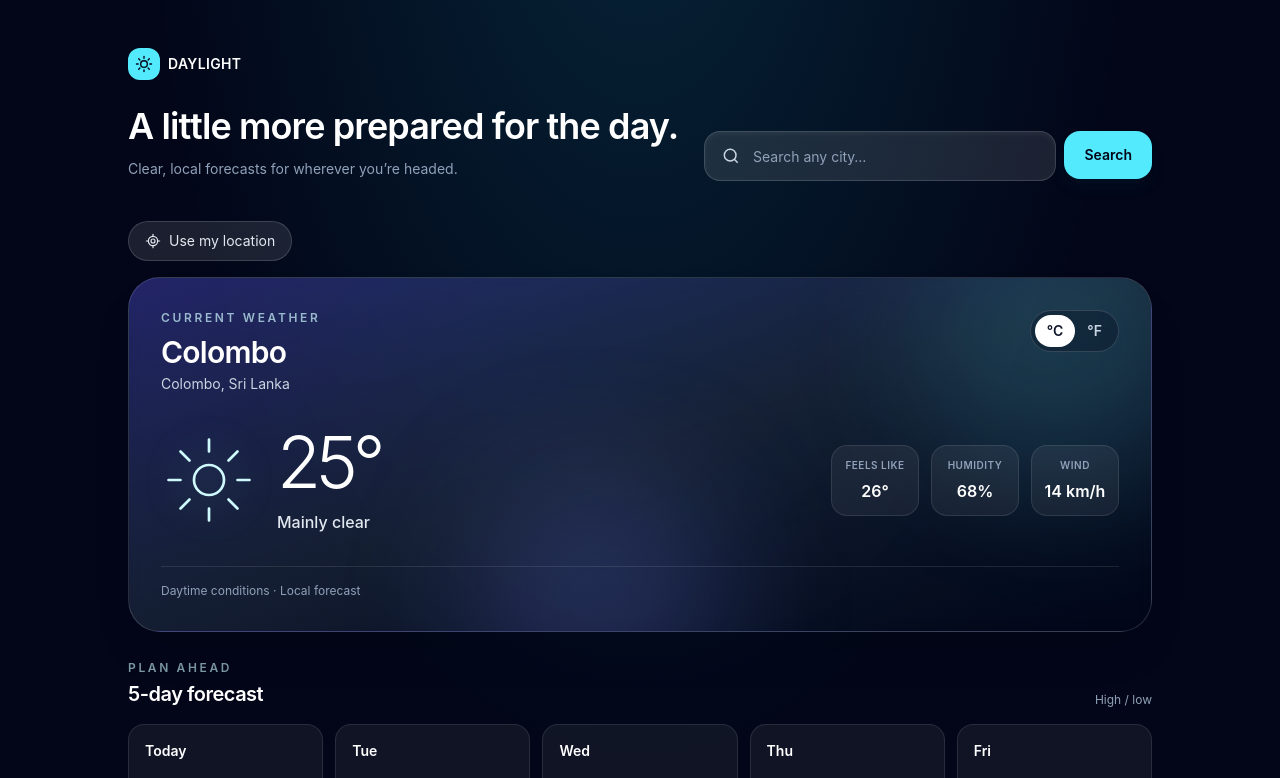
recent searches › remembers searched cities and lets the user search them again
Expected: the heading "Colombo" is shown, [161,334,286,370]
In the search field named "Search for a city": (896, 156) [753,132,1040,180], type "Tokyo"
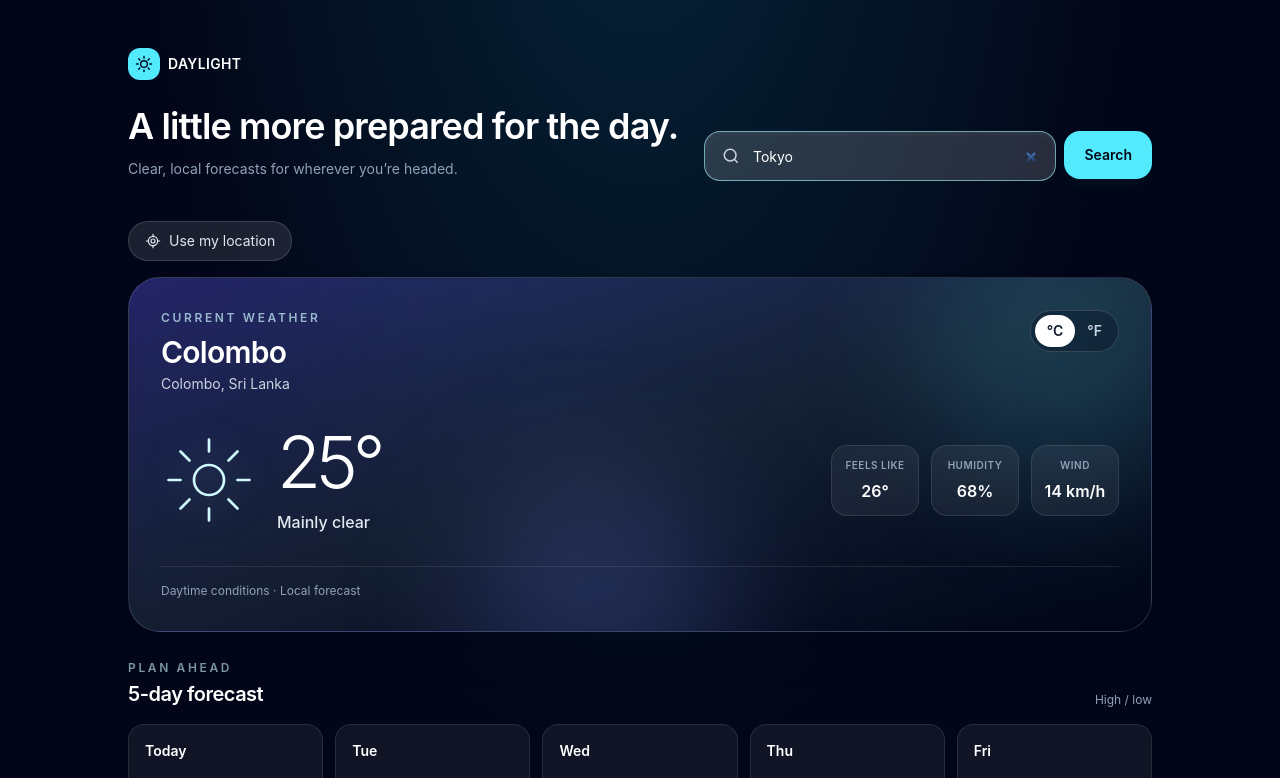
Click the button "Search": (1108, 155) [1064,131,1152,179]
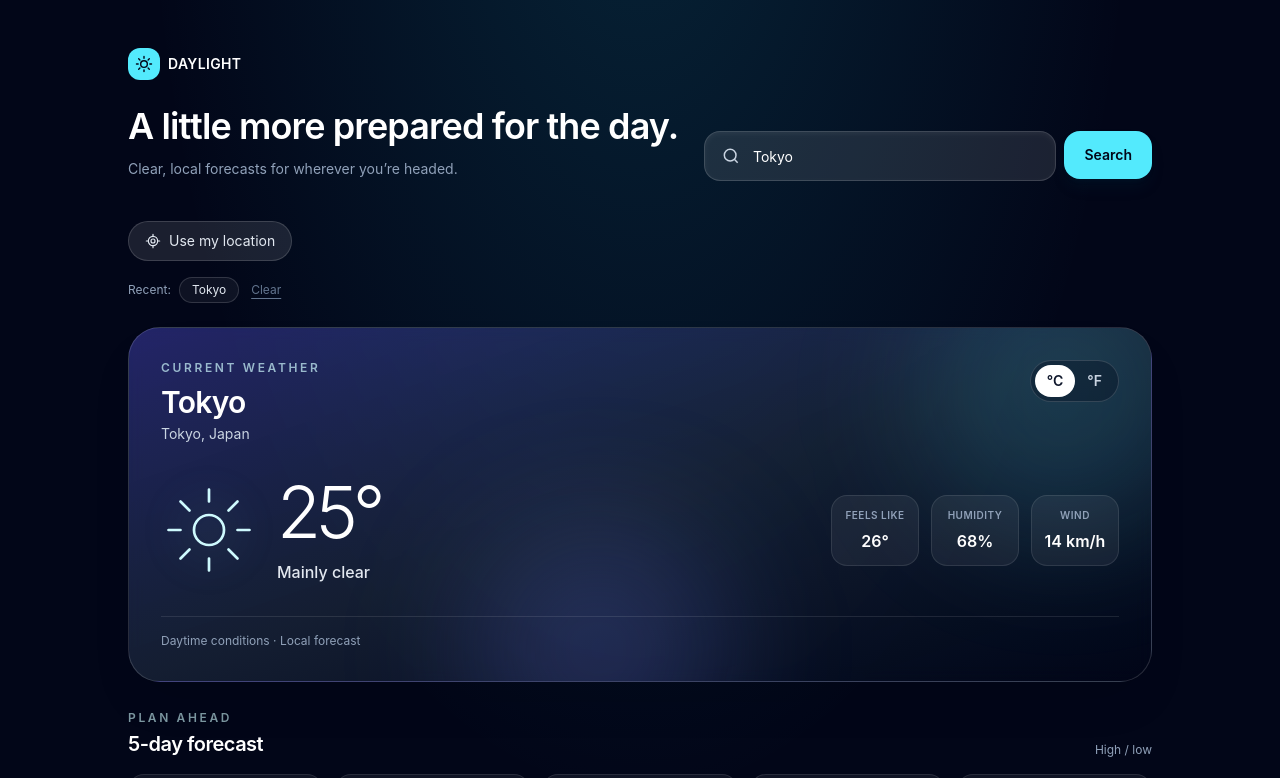
Now the heading "Tokyo" is shown, box [161,384,246,420]
Replace the text in the search field named "Search for a city" with "Paris": (896, 156) [753,132,1040,180]
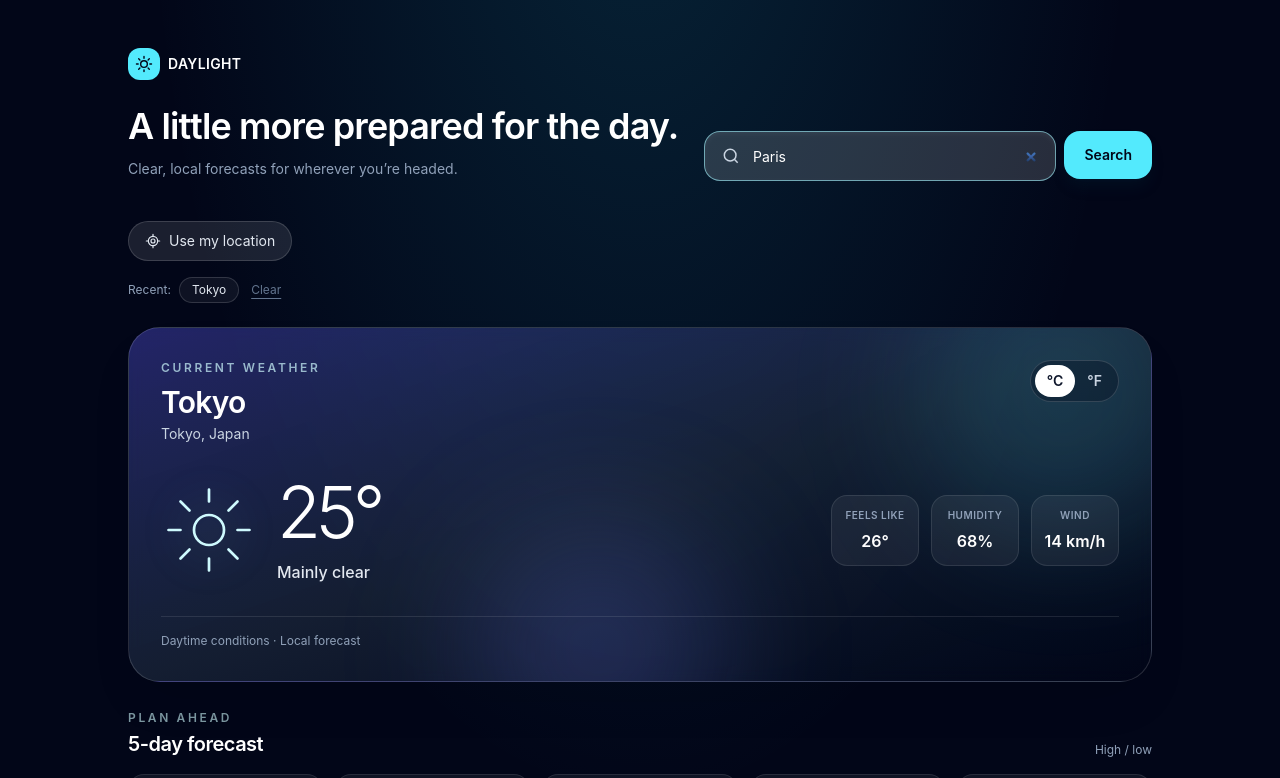
Click the button "Search": (1108, 155) [1064,131,1152,179]
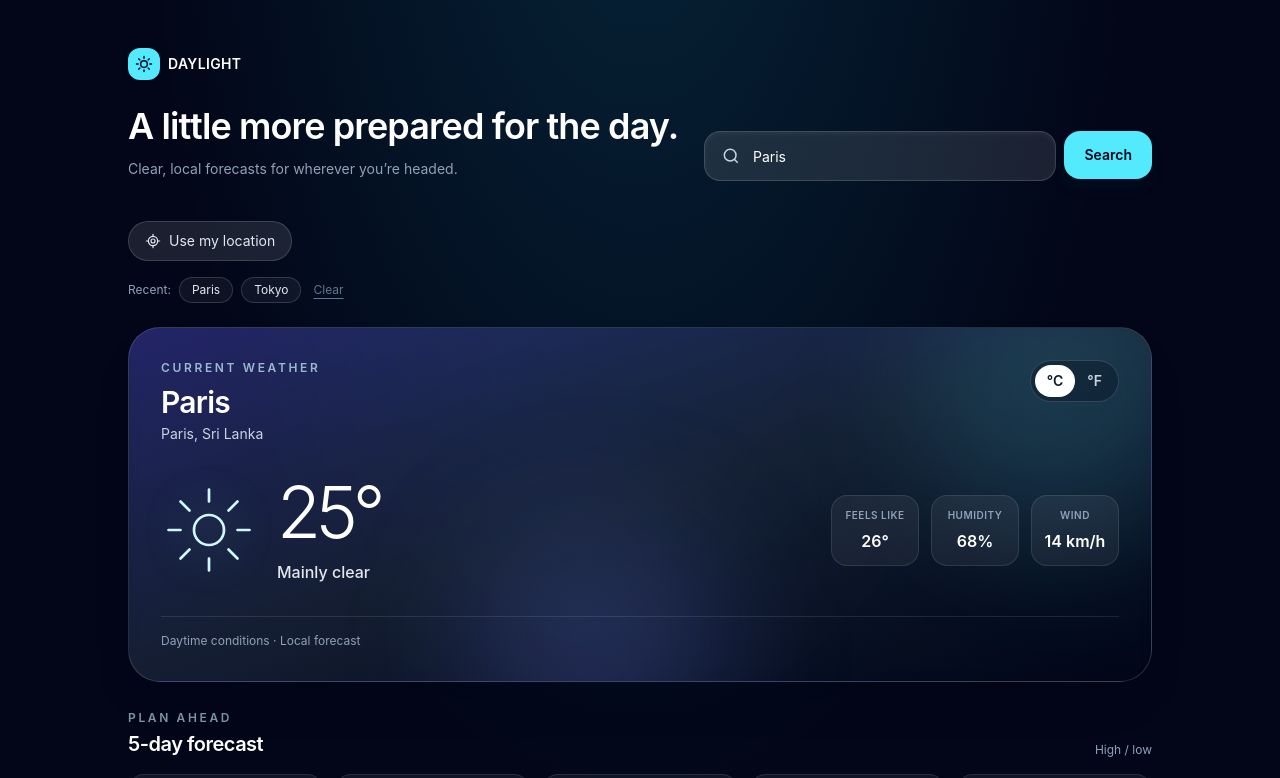
Now the heading "Paris" is shown, box [161,384,230,420]
Click the button "Tokyo": (271, 290) [241,277,302,303]
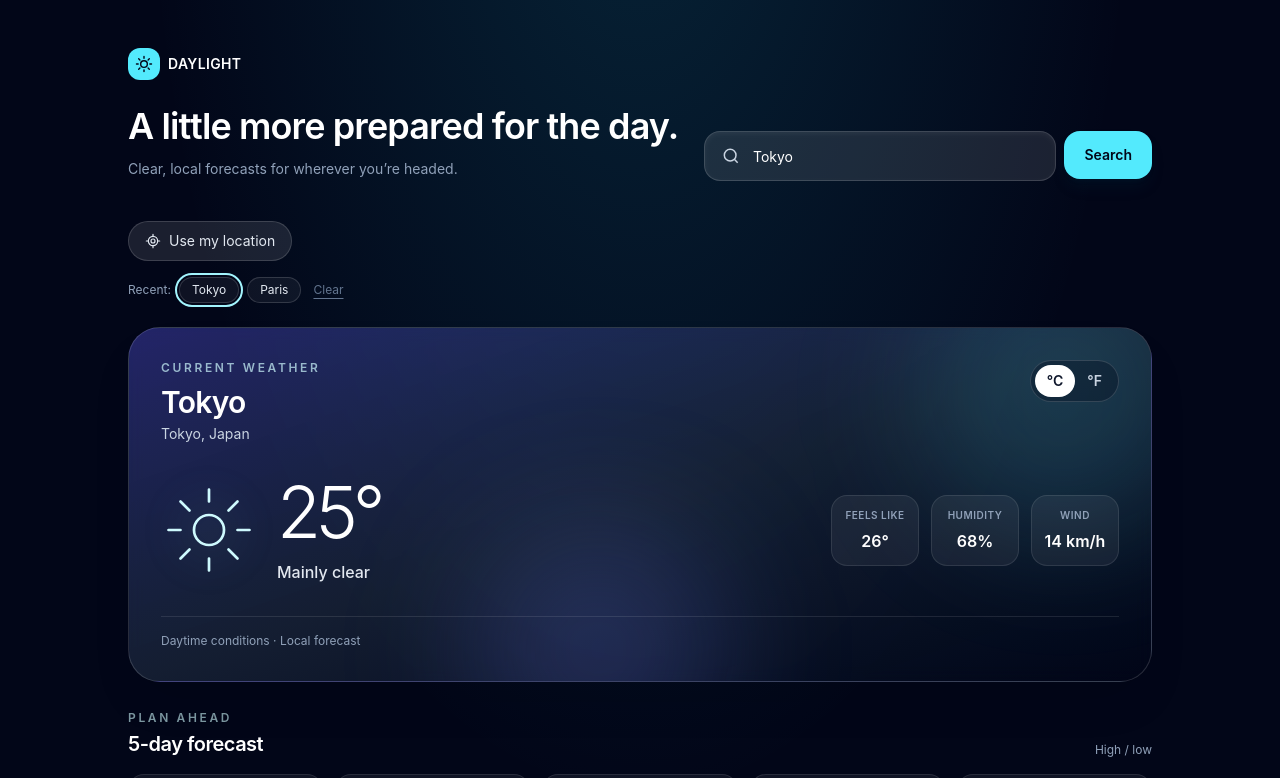
Now the heading "Tokyo" is shown, box [161,384,246,420]
